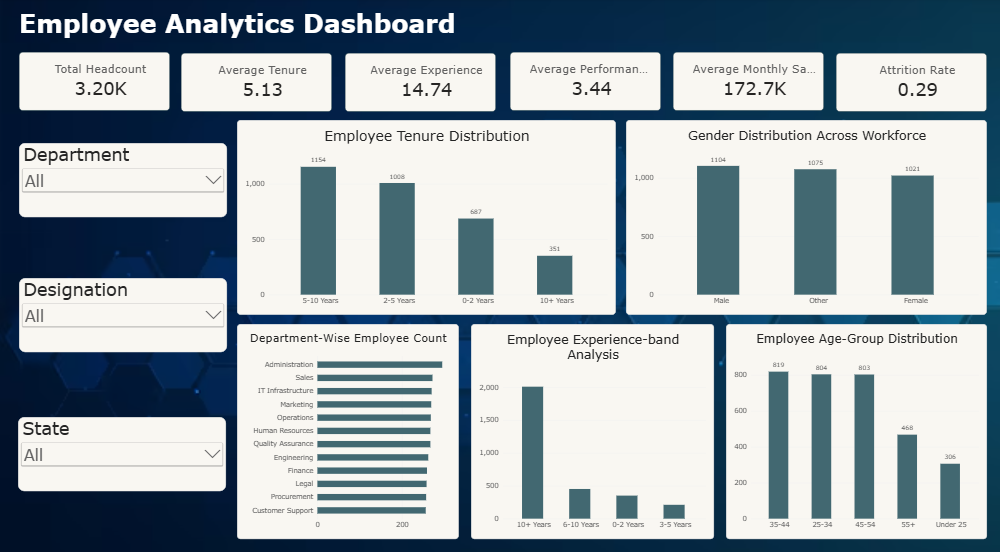

The dashboard page shown, as its layout file describes it:
{"tool":"powerbi","page":{"name":"Employees Analytics","canvas":[2120,1180],"ordinal":1},"visuals":[{"type":"textbox","box":[42.5,19.1,1213.9,76.5],"z":0},{"type":"cardVisual","fields":{"Data":["employees_cleaned.Total Headcount"]},"box":[43.3,114.3,319.2,124.1],"z":1000},{"type":"clusteredColumnChart","title":"Employee Tenure Distribution","fields":{"Category":["employees_cleaned.Tenure Band"],"Y":["Count(employees_cleaned.employee_id)"]},"box":[503.3,258,801.5,412.4],"z":2000},{"type":"clusteredColumnChart","title":"Gender Distribution Across Workforce","fields":{"Category":["employees_cleaned.gender"],"Y":["Count(employees_cleaned.employee_id)"]},"box":[1325.9,258,763.4,412.4],"z":3000},{"type":"clusteredBarChart","title":"Department-Wise Employee Count","fields":{"Category":["departments_cleaned.department_name"],"Y":["Count(employees_cleaned.employee_id)"]},"box":[503.3,689.4,469.5,454.7],"z":4000},{"type":"clusteredColumnChart","title":"Employee Experience-band Analysis","fields":{"Category":["employees_cleaned.Experience Band"],"Y":["Count(employees_cleaned.employee_id)"]},"box":[998.1,689.4,513.9,454.7],"z":5000},{"type":"clusteredColumnChart","title":"Employee Age-Group Distribution","fields":{"Category":["employees_cleaned.Age Group"],"Y":["Count(employees_cleaned.employee_id)"]},"box":[1537.4,689.4,551.9,454.7],"z":6000},{"type":"slicer","fields":{"Values":["departments_cleaned.department_name"]},"box":[42.3,306.6,440,157.3],"z":7000},{"type":"cardVisual","fields":{"Data":["employees_cleaned.Average Tenure"]},"box":[385.2,116.3,319.2,124.1],"z":8000},{"type":"cardVisual","fields":{"Data":["employees_cleaned.Average Experience"]},"box":[731.7,116.3,319.2,124.1],"z":9000},{"type":"cardVisual","fields":{"Data":["performance_reviews_cleaned.Average Performance Rating"]},"box":[1080.5,114,319.2,124.1],"z":10000},{"type":"cardVisual","fields":{"Data":["payroll_cleaned.Average Monthly Salary"]},"box":[1424.7,114,319.2,124.1],"z":11000},{"type":"cardVisual","fields":{"Data":["employees_cleaned.Attrition Rate"]},"box":[1768.9,116.3,319.2,124.1],"z":12000},{"type":"slicer","fields":{"Values":["employees_cleaned.designation"]},"box":[42.3,592.1,440,157.3],"z":13000},{"type":"slicer","fields":{"Values":["employees_cleaned.state"]},"box":[40.2,886.1,440,157.3],"z":14000}]}

Visuals, with their boxes in screenshot pixels (x1, y1, x2, y2), scaled from the page's 2120x1180 canvas onto the 1000x552 screenshot:
textbox: x1=20, y1=9, x2=593, y2=45
cardVisual - employees_cleaned.Total Headcount: x1=20, y1=53, x2=171, y2=112
"Employee Tenure Distribution" clusteredColumnChart: x1=237, y1=121, x2=615, y2=314
"Gender Distribution Across Workforce" clusteredColumnChart: x1=625, y1=121, x2=986, y2=314
"Department-Wise Employee Count" clusteredBarChart: x1=237, y1=322, x2=459, y2=535
"Employee Experience-band Analysis" clusteredColumnChart: x1=471, y1=322, x2=713, y2=535
"Employee Age-Group Distribution" clusteredColumnChart: x1=725, y1=322, x2=986, y2=535
slicer - departments_cleaned.department_name: x1=20, y1=143, x2=228, y2=217
cardVisual - employees_cleaned.Average Tenure: x1=182, y1=54, x2=332, y2=112
cardVisual - employees_cleaned.Average Experience: x1=345, y1=54, x2=496, y2=112
cardVisual - performance_reviews_cleaned.Average Performance Rating: x1=510, y1=53, x2=660, y2=111
cardVisual - payroll_cleaned.Average Monthly Salary: x1=672, y1=53, x2=823, y2=111
cardVisual - employees_cleaned.Attrition Rate: x1=834, y1=54, x2=985, y2=112
slicer - employees_cleaned.designation: x1=20, y1=277, x2=228, y2=351
slicer - employees_cleaned.state: x1=19, y1=415, x2=227, y2=488
